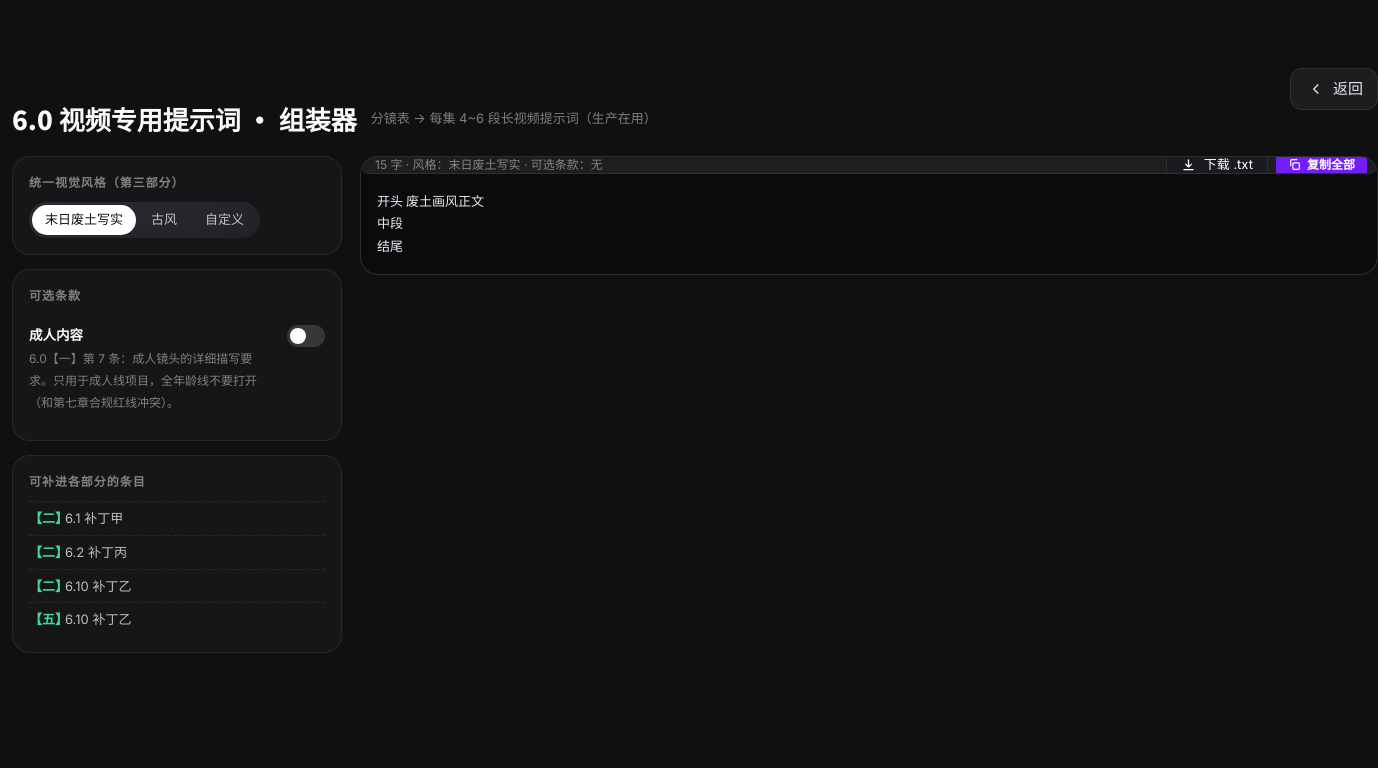
Test case: 组装器：画风 › 切换画风：高亮跟着走，结果替换画风正文
Click the button "古风".
click(164, 220)  # box [138, 205, 190, 235]
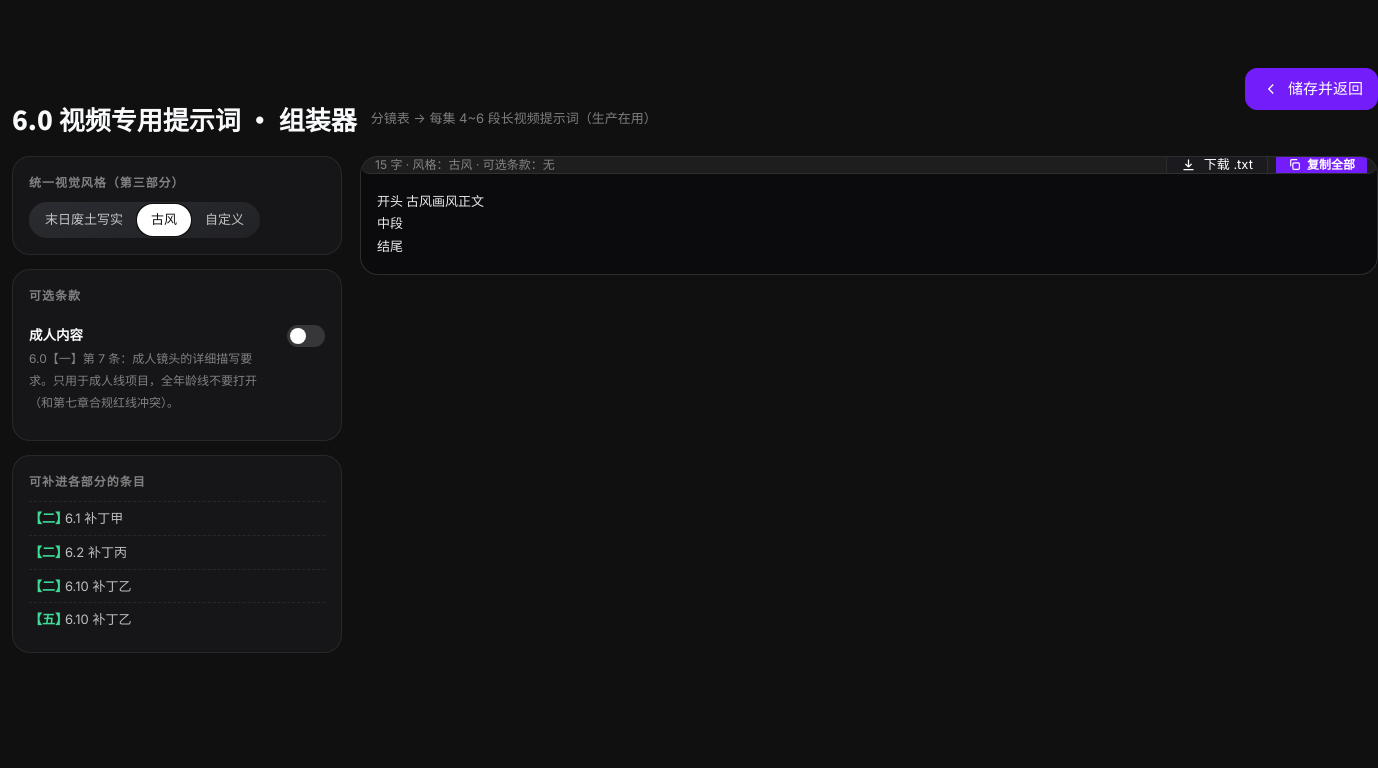
expect the text with id "stat" shows "风格：古风": met, box [375, 157, 555, 174]
